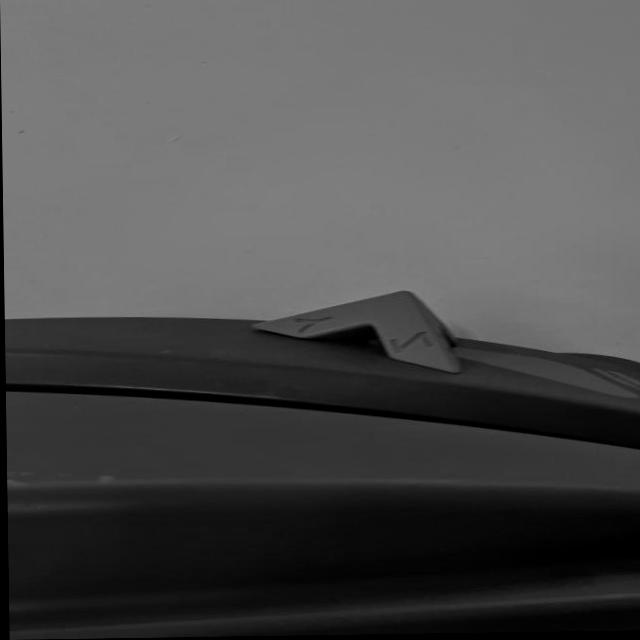eje: (249, 288, 466, 379)
